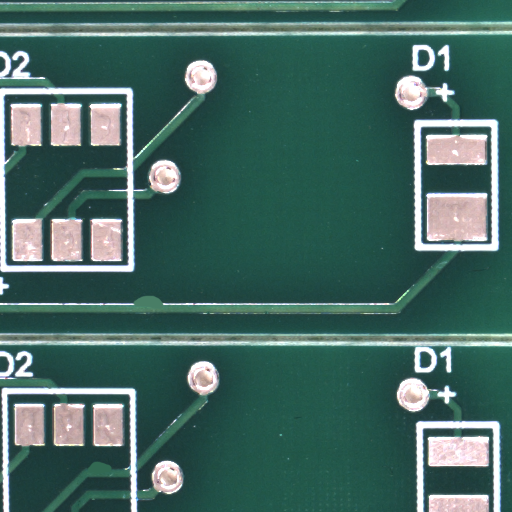Spur: (146, 300, 177, 313), (101, 465, 130, 478)
